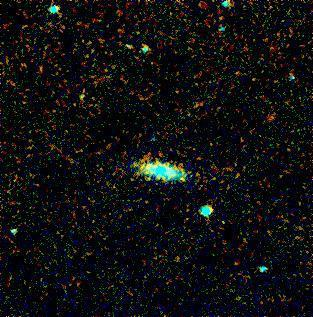star: (66, 84, 96, 114)
